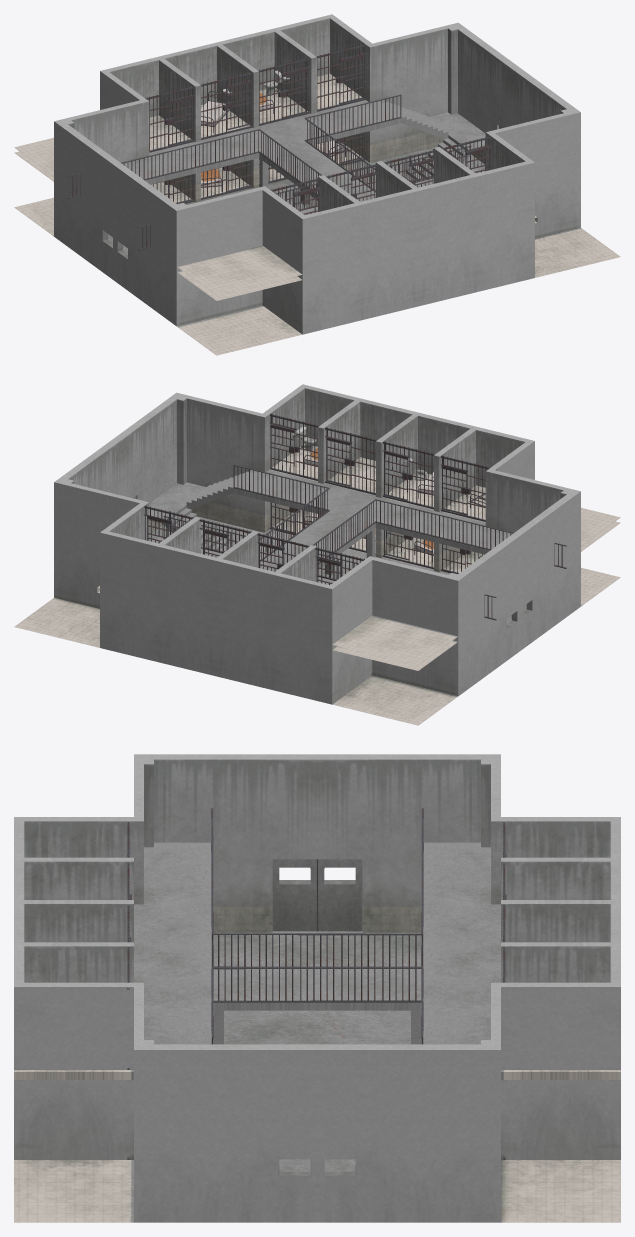
Rendered from prison_closed.glb.
3 views of the same model, one above another, from view 1: azimuth 30°, elevation 25°; view 2: azimuth 150°, elevation 25°; view 3: azimuth 270°, elevation 25° (orthographic). The views are drawn at different scales.
Visible parts, largest first — view 1: polySurface106, pCube22, pCube1, polySurface115, pCube18, polySurface125, polySurface72_lambert24_0.007, polySurface72_lambert24_0.005, polySurface72_lambert24_0.003, polySurface72_lambert24_0.004, door62628468, door_lambert24_0.004 (+3 smaller); view 2: polySurface106, pCube22, pCube1, door62628468, pCube20, polySurface125, polySurface72_lambert24_0.015, polySurface72_lambert24_0.011, polySurface72_lambert24_0.013, polySurface72_lambert24_0.012, polySurface115, door_lambert24_0.010 (+3 smaller); view 3: polySurface106, pCube22, pCube1, polySurface125, polySurface115, door62628468, pCube31.
Part boxes in pixels (x1,y1,x2,y2): polySurface106: [54, 14, 580, 334]; pCube22: [14, 73, 537, 300]; pCube1: [14, 140, 620, 355]; polySurface115: [68, 94, 401, 198]; pCube18: [379, 100, 485, 180]; polySurface125: [259, 118, 375, 195]; polySurface72_lambert24_0.007: [200, 72, 252, 139]; polySurface72_lambert24_0.005: [258, 58, 310, 125]; polySurface72_lambert24_0.003: [316, 44, 365, 111]; polySurface72_lambert24_0.004: [145, 86, 194, 152]; door62628468: [138, 146, 471, 250]; door_lambert24_0.004: [282, 68, 306, 118]; polySurface106: [54, 384, 580, 704]; pCube22: [97, 444, 620, 670]; pCube1: [14, 510, 620, 725]; door62628468: [233, 464, 566, 568]; pCube20: [149, 470, 255, 551]; polySurface125: [259, 488, 376, 564]; polySurface72_lambert24_0.015: [383, 441, 434, 509]; polySurface72_lambert24_0.011: [325, 427, 377, 495]; polySurface72_lambert24_0.013: [270, 414, 318, 480]; polySurface72_lambert24_0.012: [441, 455, 496, 521]; polySurface115: [163, 515, 496, 620]; door_lambert24_0.010: [326, 436, 350, 486]; polySurface106: [14, 754, 620, 1222]; pCube22: [14, 842, 620, 1079]; pCube1: [14, 931, 620, 1222]; polySurface125: [211, 933, 423, 1002]; polySurface115: [421, 808, 423, 1044]; door62628468: [211, 808, 213, 1044]; pCube31: [214, 1010, 420, 1044].
Bounding box in the file's own units: 18.71 × 5.06 × 15.78.
3 materials, 3 textured.
